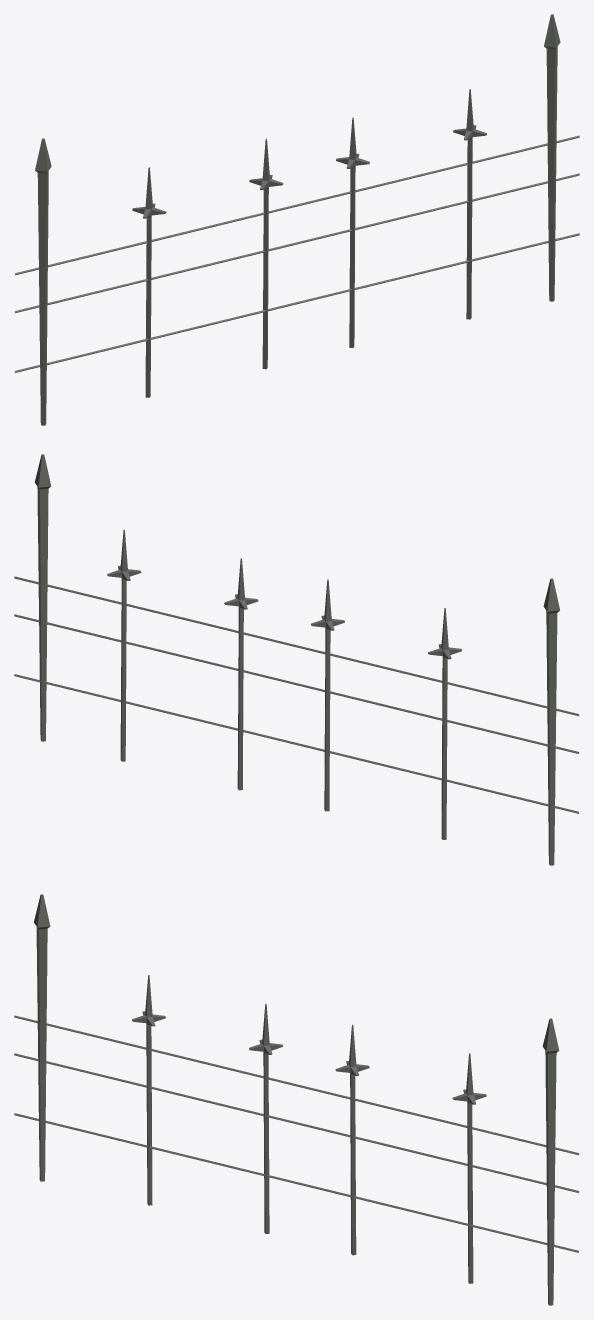
The model's file is EA_Exterior_Fence_Element_Clean_Seam_02a.gltf.
3 renders of one model, top to bottom at view 1: azimuth 30°, elevation 25°; view 2: azimuth 150°, elevation 25°; view 3: azimuth 330°, elevation 25°, orthographic.
Parts seen in each view (by area): view 1: EA_Exterior_Fence_Element_Clean_Seam_02a; view 2: EA_Exterior_Fence_Element_Clean_Seam_02a; view 3: EA_Exterior_Fence_Element_Clean_Seam_02a.
Part boxes in pixels (box(x1,y1,x2,y2)): EA_Exterior_Fence_Element_Clean_Seam_02a: box(14, 14, 579, 425); EA_Exterior_Fence_Element_Clean_Seam_02a: box(14, 454, 579, 865); EA_Exterior_Fence_Element_Clean_Seam_02a: box(14, 894, 579, 1305).
Size of the model in its own units: 10 by 4.84 by 0.3933.
1 material, 1 textured.
